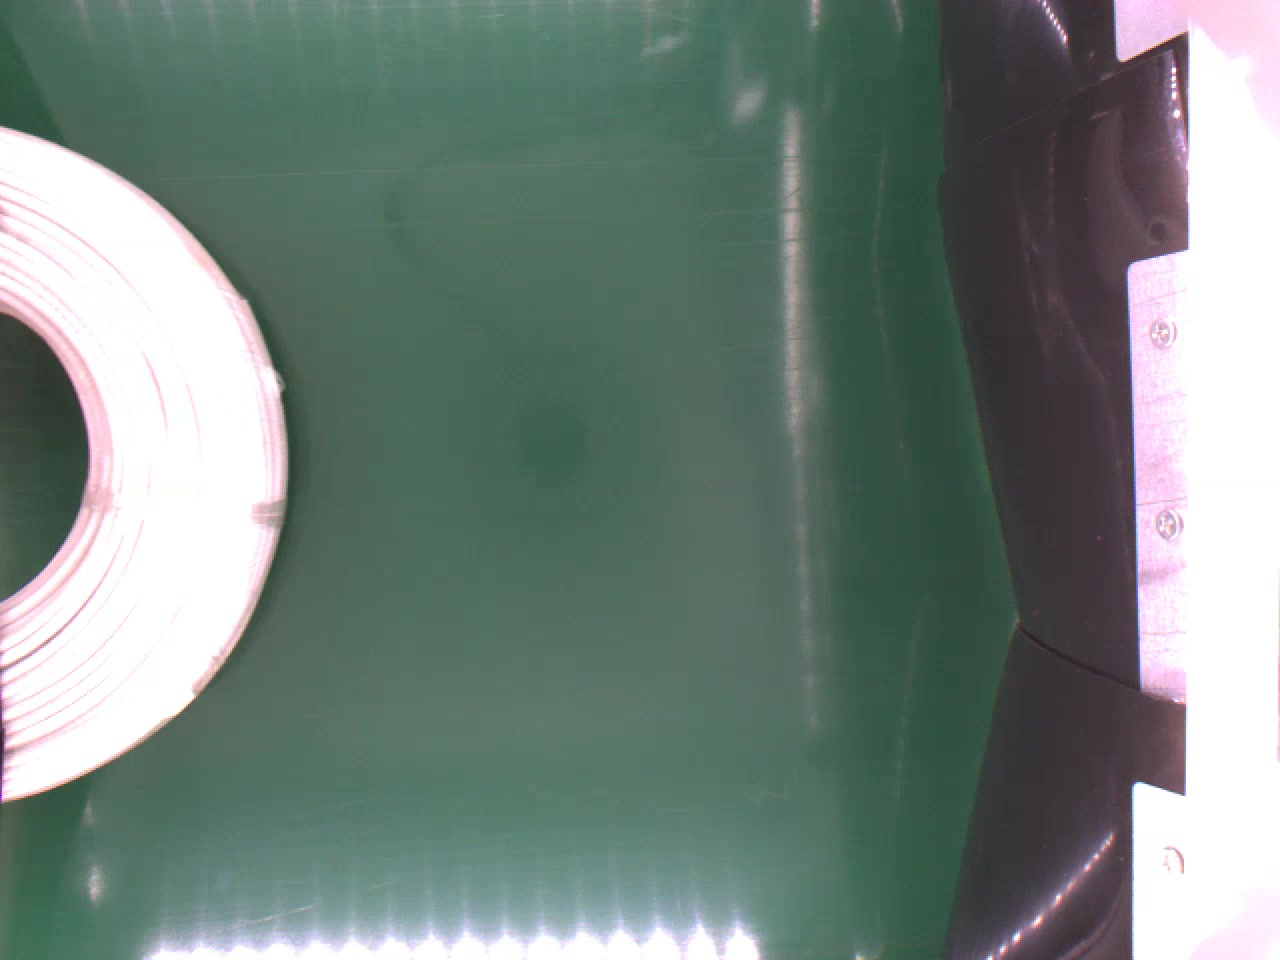white: (0, 124, 293, 799)
